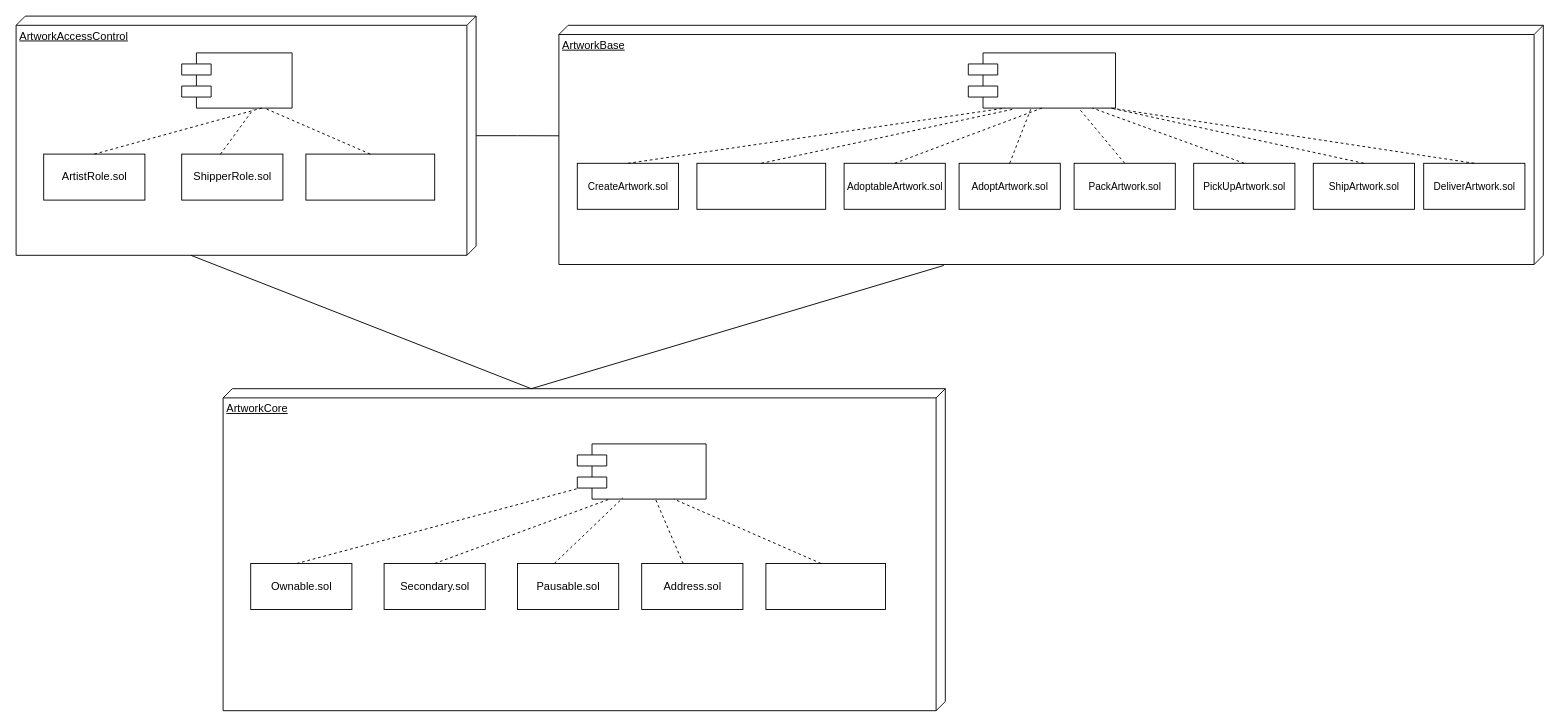
This 1559x727 diagram has some shape labels left out. Here are the shapes that lost their labels. From the top down, the centre of each, then its label:
(236,80): Roles.sol
(1041,80): ArtSupplyChain.sol
(370,176): ArtAdopterRole.sol
(761,185): FrameArtwork.sol
(641,471): ValueChain.sol
(825,586): ReentrancyGuard.sol
